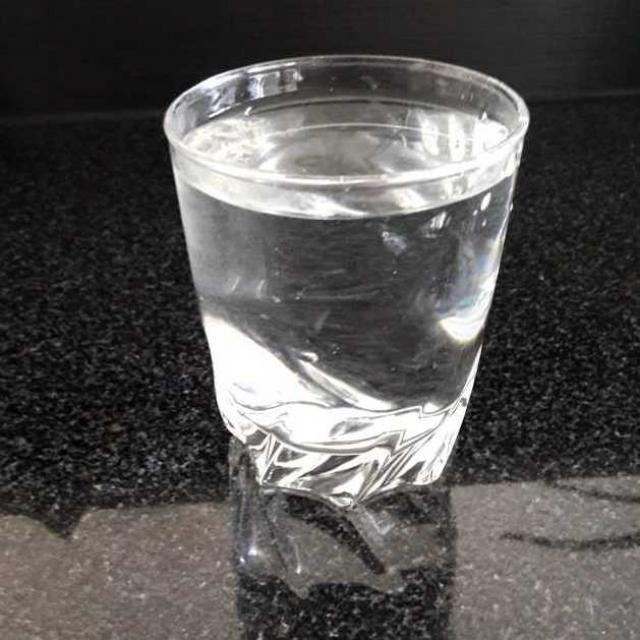water: (182, 83, 521, 422)
